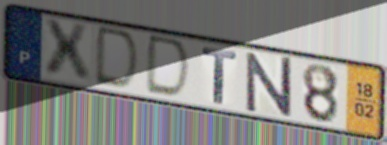8: (301, 63, 341, 126)
D: (142, 32, 193, 102), (91, 24, 142, 93)
N: (244, 51, 295, 119)
T: (200, 45, 239, 107)
X: (41, 17, 94, 85)
